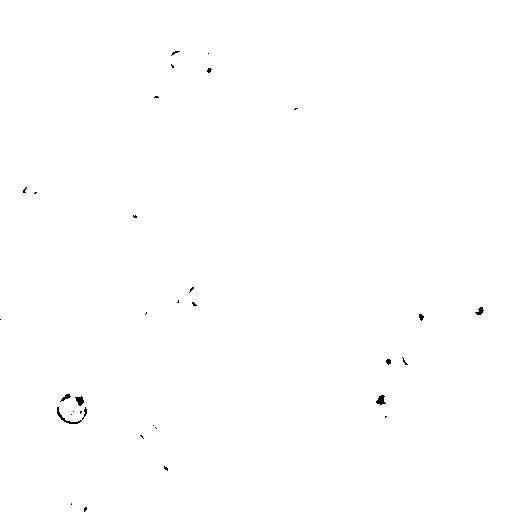micro-algae: (293, 205, 385, 296), (432, 344, 512, 421), (376, 325, 451, 397), (256, 450, 323, 509), (335, 430, 397, 493), (54, 300, 101, 341), (272, 87, 307, 123), (118, 192, 154, 226), (190, 53, 223, 87), (54, 392, 89, 424), (366, 381, 397, 417), (67, 13, 97, 47), (204, 25, 235, 57), (461, 291, 491, 323), (90, 114, 119, 147), (247, 91, 276, 123), (405, 299, 433, 331), (481, 370, 511, 398), (69, 47, 96, 77), (31, 0, 63, 25), (81, 73, 110, 99), (65, 384, 92, 411), (230, 59, 258, 85), (362, 89, 388, 117), (366, 399, 394, 425), (297, 83, 321, 113), (25, 28, 51, 55), (305, 497, 351, 512), (165, 286, 190, 313), (435, 0, 469, 19), (167, 49, 195, 72), (81, 286, 104, 314), (233, 476, 263, 497), (160, 375, 183, 402), (191, 99, 216, 123), (375, 347, 400, 371), (401, 341, 423, 368), (477, 357, 499, 384), (241, 136, 265, 159), (288, 106, 310, 131), (487, 271, 512, 293), (289, 483, 309, 509), (146, 286, 165, 313), (138, 419, 161, 441), (164, 453, 188, 474), (143, 462, 169, 481), (307, 0, 333, 18), (188, 285, 209, 307), (99, 495, 127, 511), (6, 110, 29, 127), (356, 212, 376, 231), (427, 387, 446, 407), (134, 300, 152, 319), (64, 498, 88, 512), (19, 182, 39, 198), (503, 341, 512, 373)
